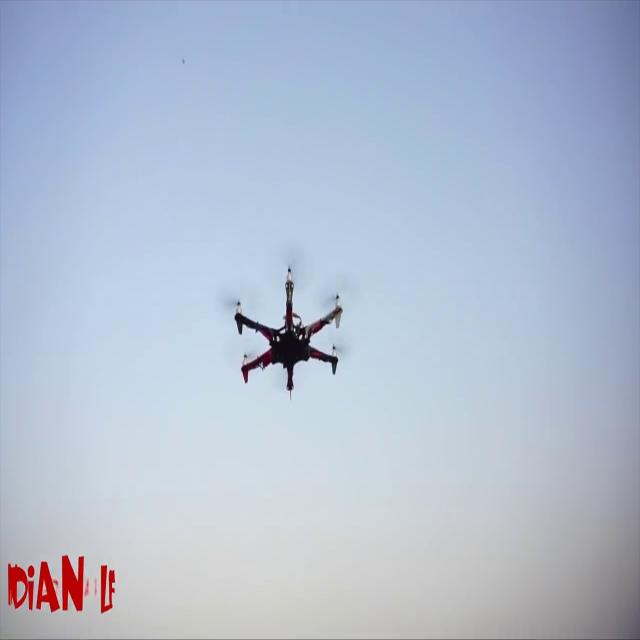drone: (206, 248, 356, 426)
